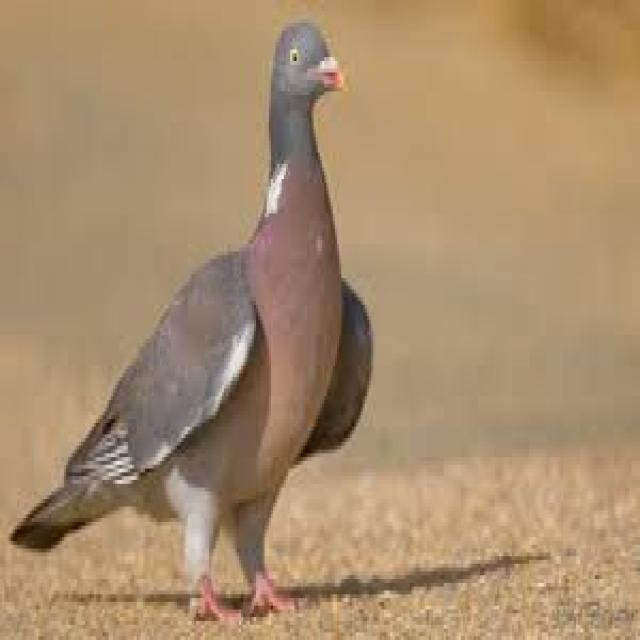pigeon: (14, 0, 383, 640)
